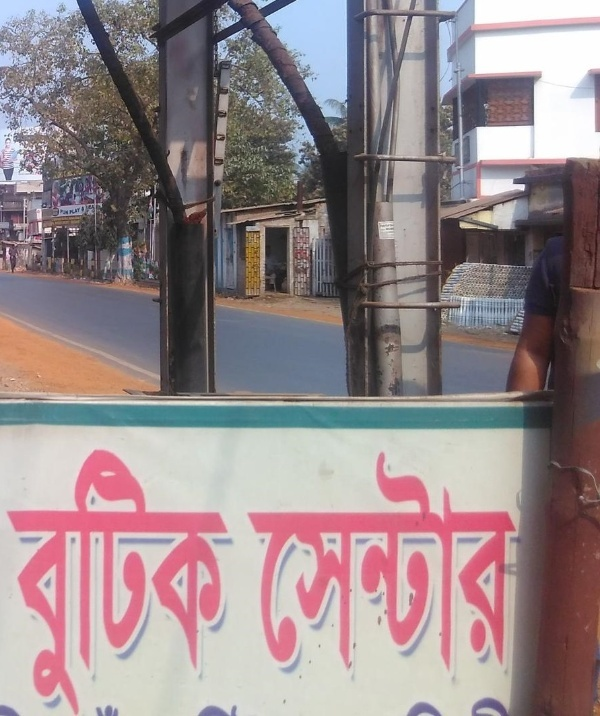text: (17, 447, 32, 716), (33, 447, 48, 716), (49, 447, 64, 716), (65, 447, 80, 716), (81, 447, 96, 716), (97, 447, 112, 716), (113, 447, 128, 716), (129, 447, 144, 716), (145, 447, 160, 716), (161, 447, 176, 716), (177, 447, 192, 716), (193, 447, 208, 716), (209, 447, 224, 716), (225, 447, 240, 716), (257, 440, 272, 675), (273, 440, 288, 675), (289, 440, 304, 675), (305, 440, 320, 675), (321, 440, 336, 675), (337, 440, 352, 675), (353, 440, 368, 675), (369, 440, 384, 675), (385, 440, 400, 675), (401, 440, 416, 675), (417, 440, 432, 675), (433, 440, 448, 675), (449, 440, 464, 675), (465, 440, 480, 675), (481, 440, 496, 675), (497, 440, 512, 675), (242, 440, 256, 675), (5, 447, 16, 716), (513, 440, 524, 675), (385, 221, 400, 244), (481, 695, 496, 716), (497, 695, 512, 716), (65, 201, 80, 219), (241, 447, 242, 716), (81, 201, 95, 219), (468, 695, 480, 716), (417, 702, 432, 716), (402, 702, 416, 716), (209, 704, 224, 715), (225, 704, 240, 715), (377, 221, 384, 244), (433, 702, 444, 716), (56, 201, 64, 219), (97, 706, 112, 715), (1, 706, 16, 715), (199, 704, 208, 715), (113, 706, 118, 715), (401, 221, 402, 244), (94, 706, 96, 715), (241, 704, 242, 715), (17, 706, 18, 715)
